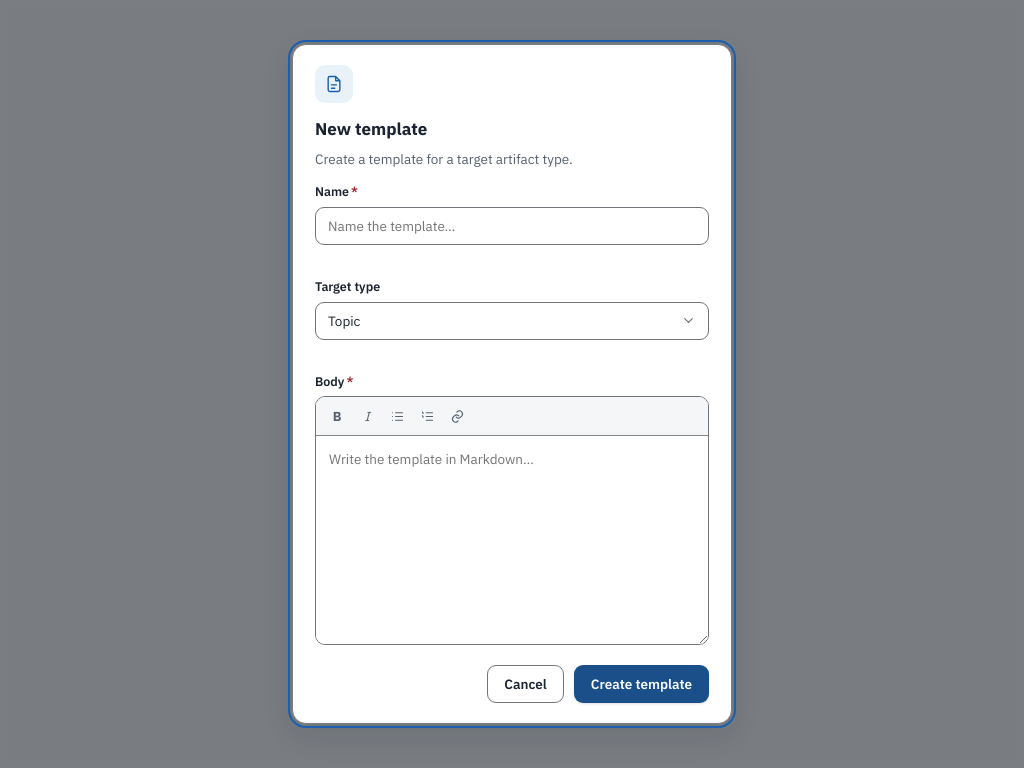
Scenario: TemplateFormDialog (P15e) › create: validates name + body are required
Click the button "Create template".
click(641, 684)  # box [574,665,709,703]
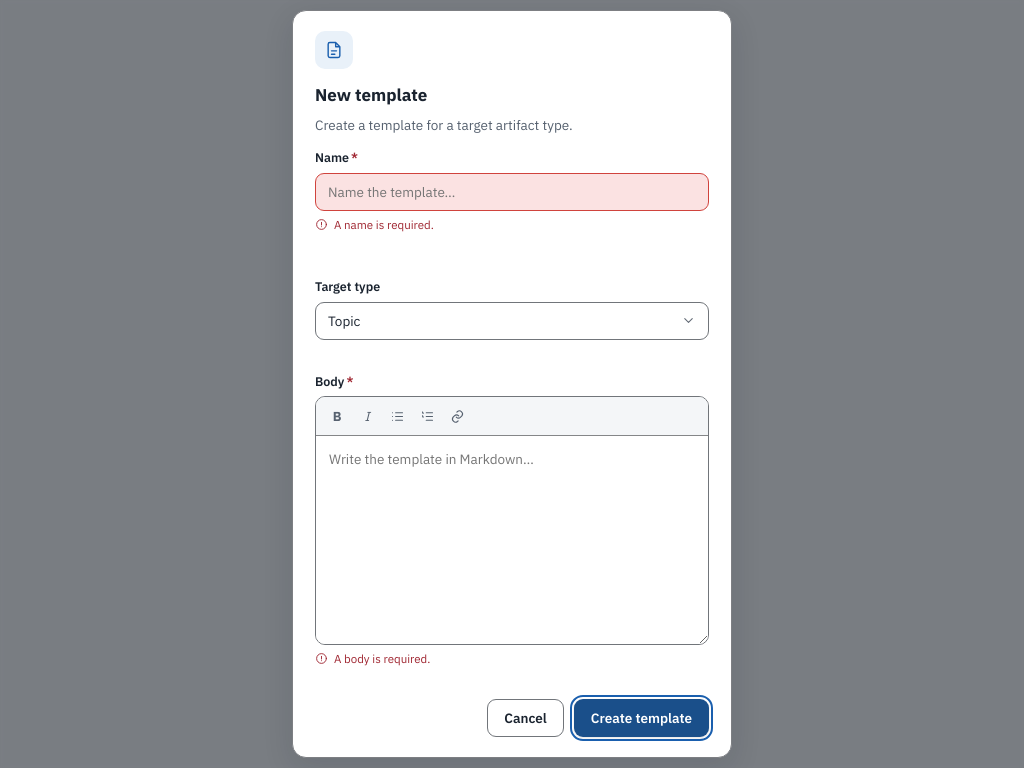
Expected: the text "A name is required." is shown, [315,217,434,232]
Expected: the text "A body is required." is shown, [315,651,430,666]
